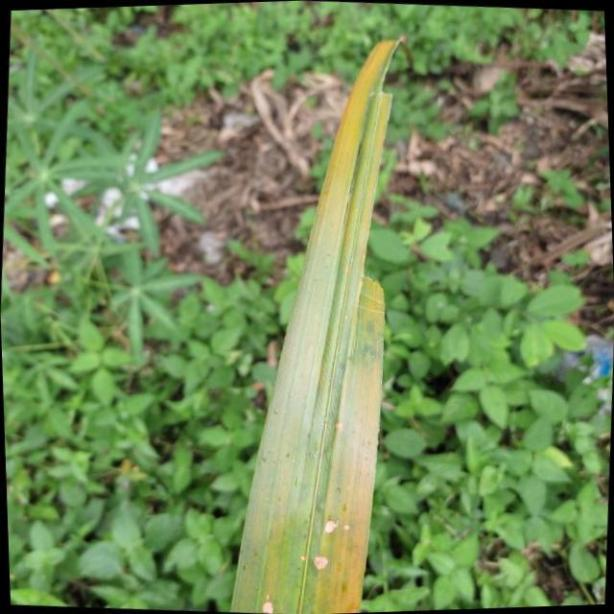Megnesium: (233, 31, 403, 614)
